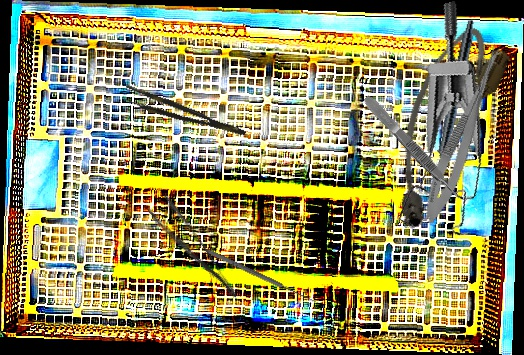Cannula: (365, 18, 517, 237)
Dressing Forceps: (145, 192, 241, 312)
Handpiece: (427, 18, 478, 185)
Hook Surgical: (205, 244, 319, 305)
Micro Scissor: (416, 39, 508, 228)
Speculum: (347, 0, 517, 250)
Tissue Forceps: (360, 92, 462, 202), (121, 83, 247, 147)
